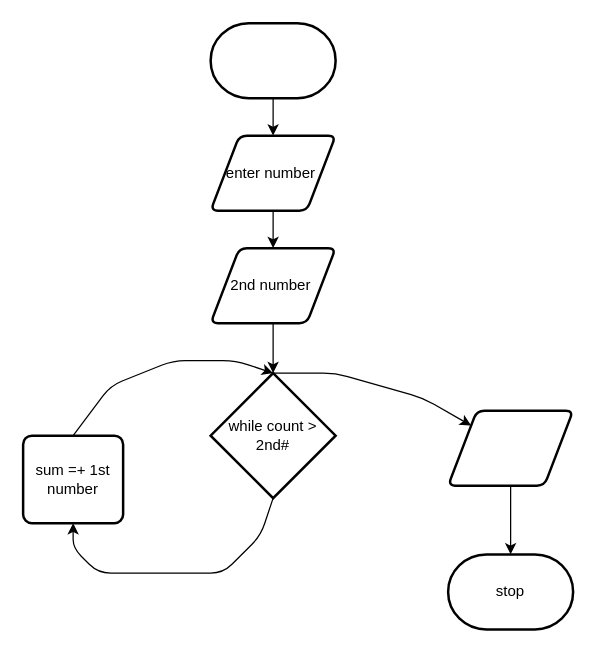
This 595x651 diagram has some shape labels left out. Here are the shapes that lost their labels. From the top down, the box of each, then its label:
(209, 21, 336, 99): start
(446, 409, 574, 486): print answer
